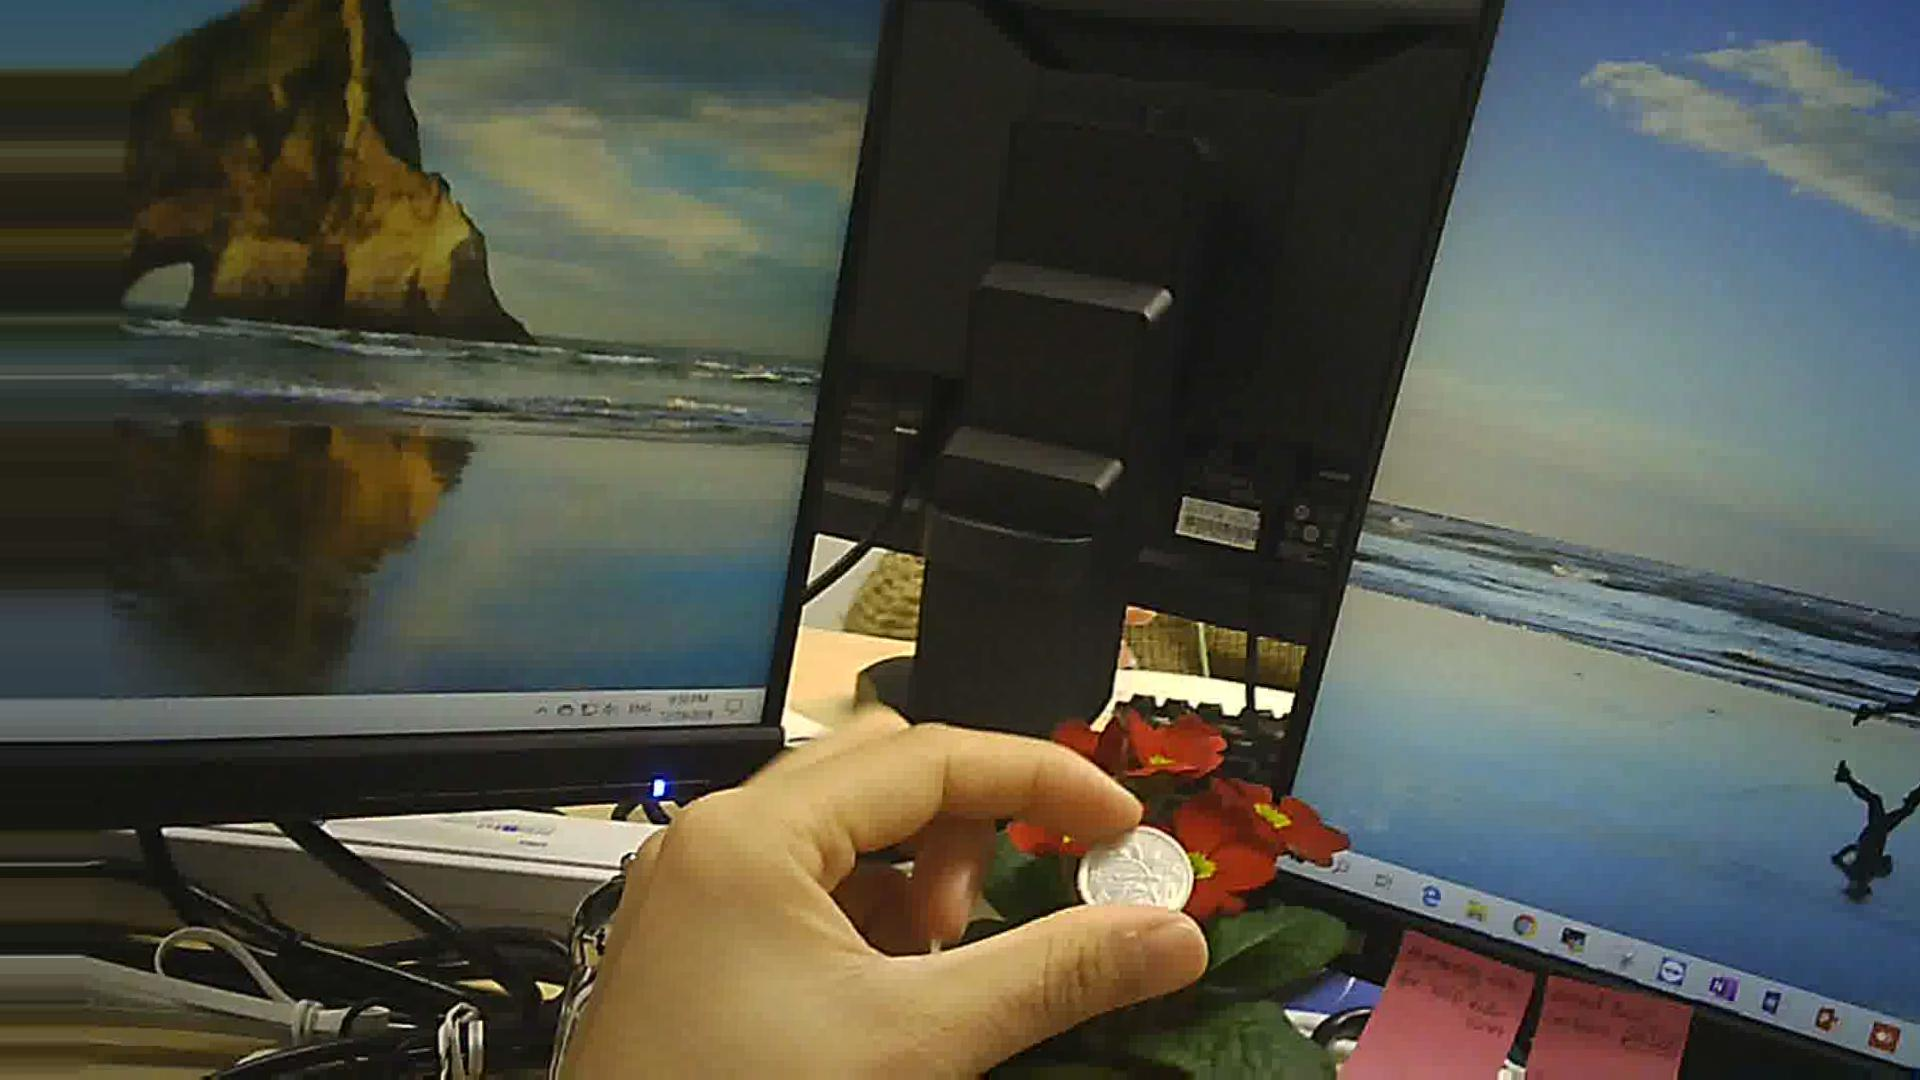1 Yen: (1069, 814, 1195, 919)
